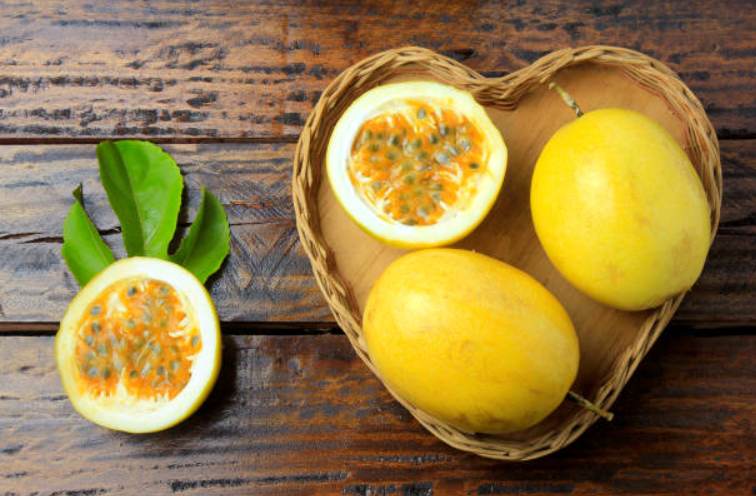maracuya: (357, 244, 581, 436), (528, 103, 721, 311)
